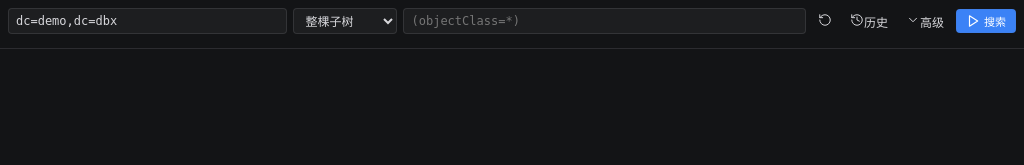
Scenario: SearchForm search history › applies a history entry to the form (builder) without running the search
The image size is (1024, 165).
Click the button with class "history-toggle": (869, 21) left=844, top=9, right=894, bottom=33
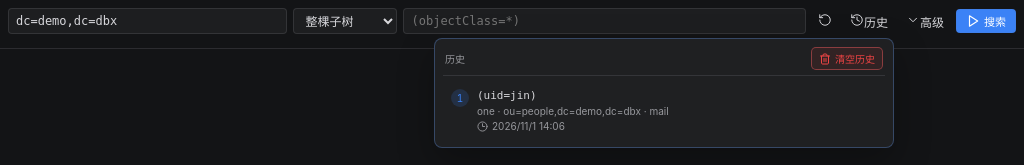
Click the button with class "history-item": (664, 110) left=443, top=82, right=885, bottom=139
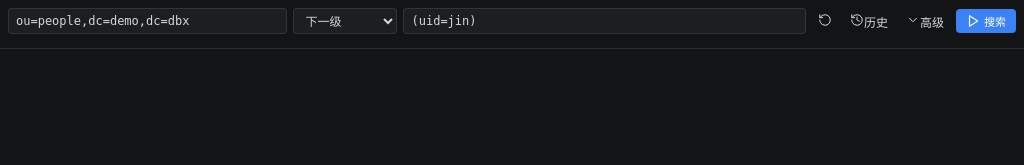
Expected: the field with class "mono" holds "ou=people,dc=demo,dc=dbx", left=8, top=8, right=288, bottom=34
Expected: the dropdown named "范围" shows "下一级", left=294, top=8, right=398, bottom=34
